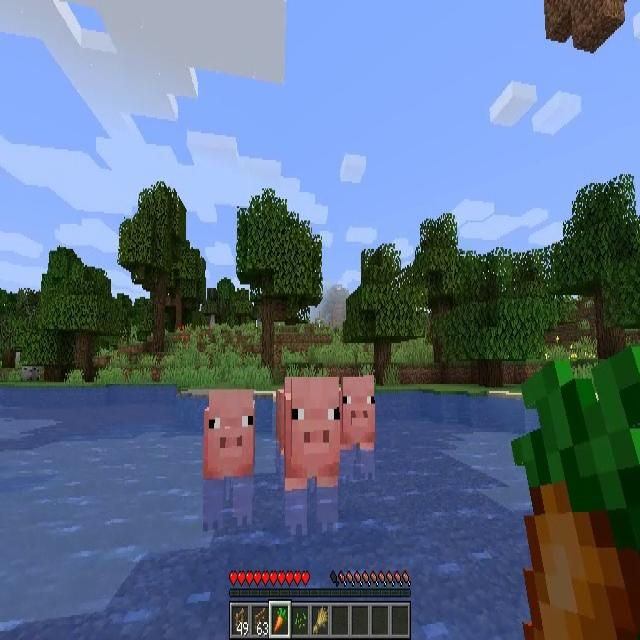pig: (276, 381, 338, 535), (202, 392, 256, 532), (341, 376, 375, 482)
